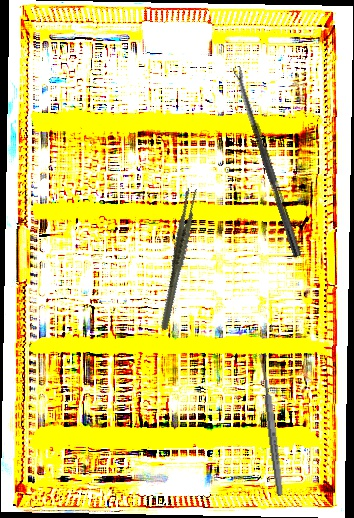Surgical Spoon: (232, 65, 303, 258), (258, 352, 285, 497)
Tissue Forceps: (135, 186, 221, 331)
